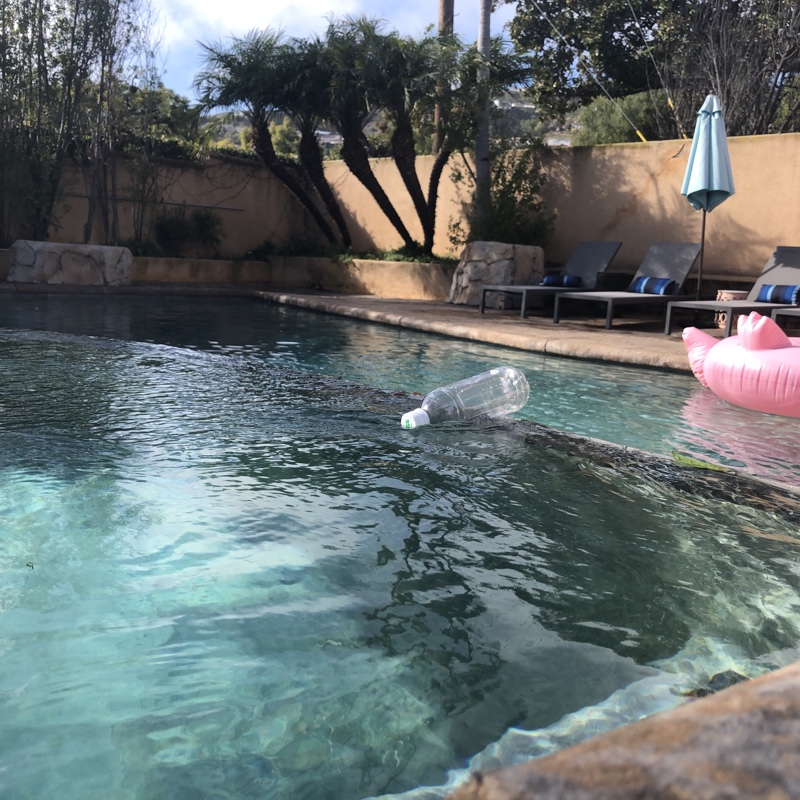Plastic Bottle: (392, 360, 531, 435)
